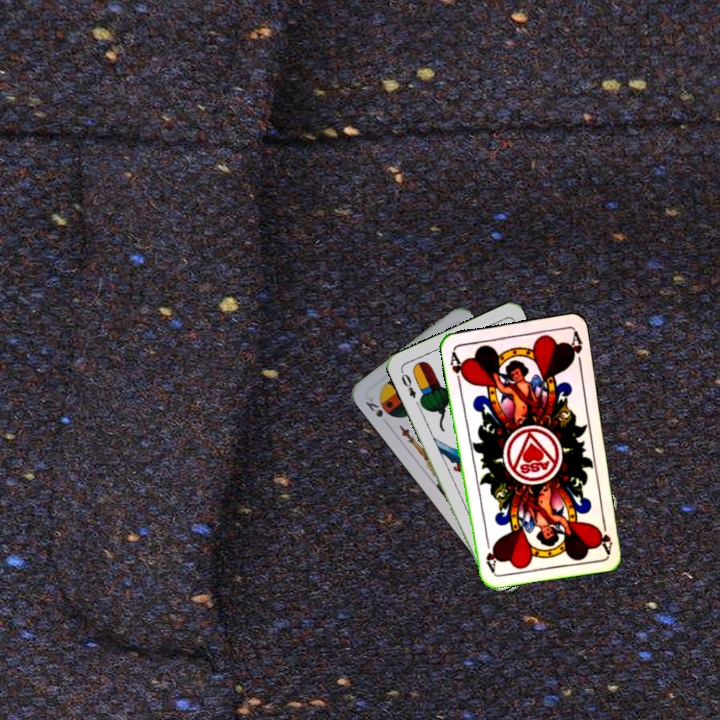EO: (397, 367, 418, 401)
HA: (446, 346, 469, 387), (593, 514, 615, 555)
SK: (361, 393, 386, 420)
